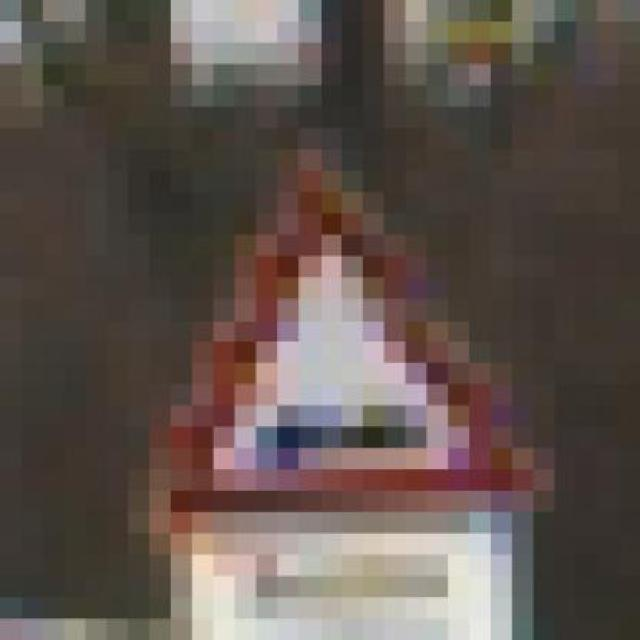Uneven Road: (107, 106, 555, 534)
